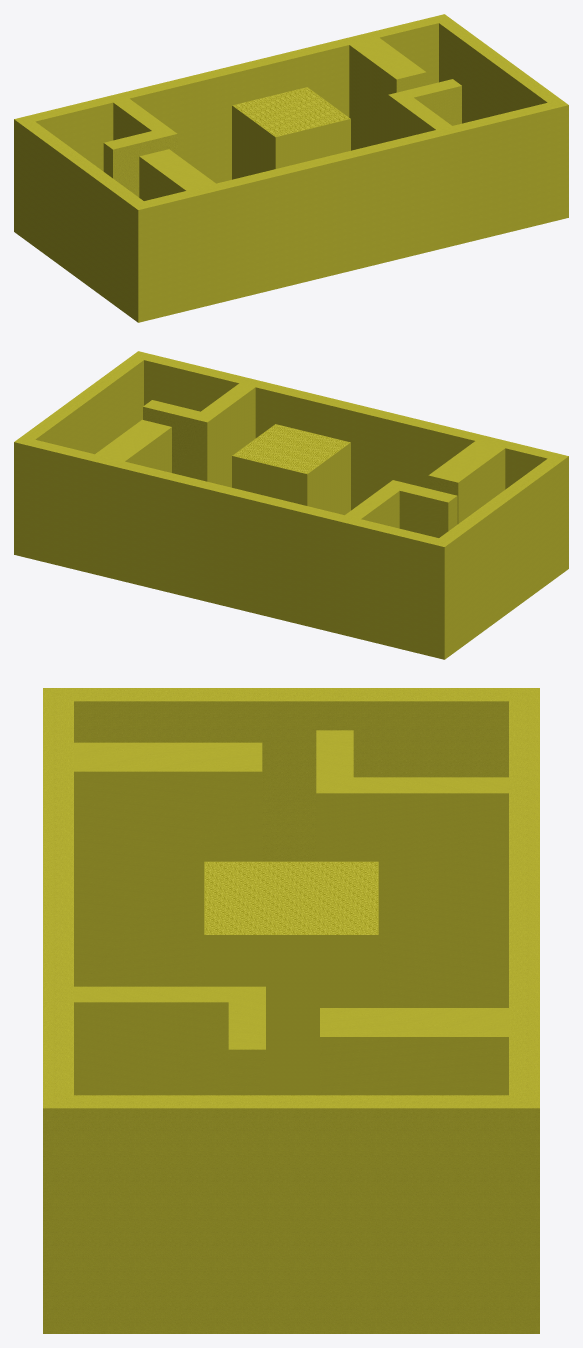
The model's file is Level5.obj.
The picture shows the model from 3 angles, top to bottom: view 1: azimuth 30°, elevation 25°; view 2: azimuth 150°, elevation 25°; view 3: azimuth 270°, elevation 25°; orthographic projection. The views are drawn at different scales.
Parts seen in each view (by area): view 1: Rectangle01, Rectangle03, Rectangle05, Line01, Line02, Rectangle04; view 2: Rectangle01, Rectangle03, Line02, Line01, Rectangle04, Rectangle05; view 3: Rectangle01, Rectangle04, Line01, Rectangle03, Line02, Rectangle05.
Boxes of the visible parts, left/top/right/bottom form: Rectangle01: left=14, top=14, right=568, bottom=322; Rectangle03: left=232, top=87, right=350, bottom=179; Rectangle05: left=349, top=37, right=426, bottom=150; Line01: left=103, top=98, right=177, bottom=197; Line02: left=388, top=79, right=461, bottom=141; Rectangle04: left=139, top=149, right=215, bottom=200; Rectangle01: left=14, top=351, right=568, bottom=659; Rectangle03: left=232, top=424, right=350, bottom=515; Line02: left=143, top=383, right=255, bottom=487; Line01: left=345, top=480, right=457, bottom=537; Rectangle04: left=428, top=441, right=505, bottom=523; Rectangle05: left=95, top=419, right=171, bottom=472; Rectangle01: left=43, top=688, right=539, bottom=1333; Rectangle04: left=72, top=742, right=262, bottom=986; Line01: left=316, top=730, right=513, bottom=1007; Rectangle03: left=204, top=861, right=378, bottom=1095; Line02: left=68, top=986, right=265, bottom=1095; Rectangle05: left=320, top=1008, right=510, bottom=1095.
Bounding box in the file's own units: 8 × 2 × 4.
